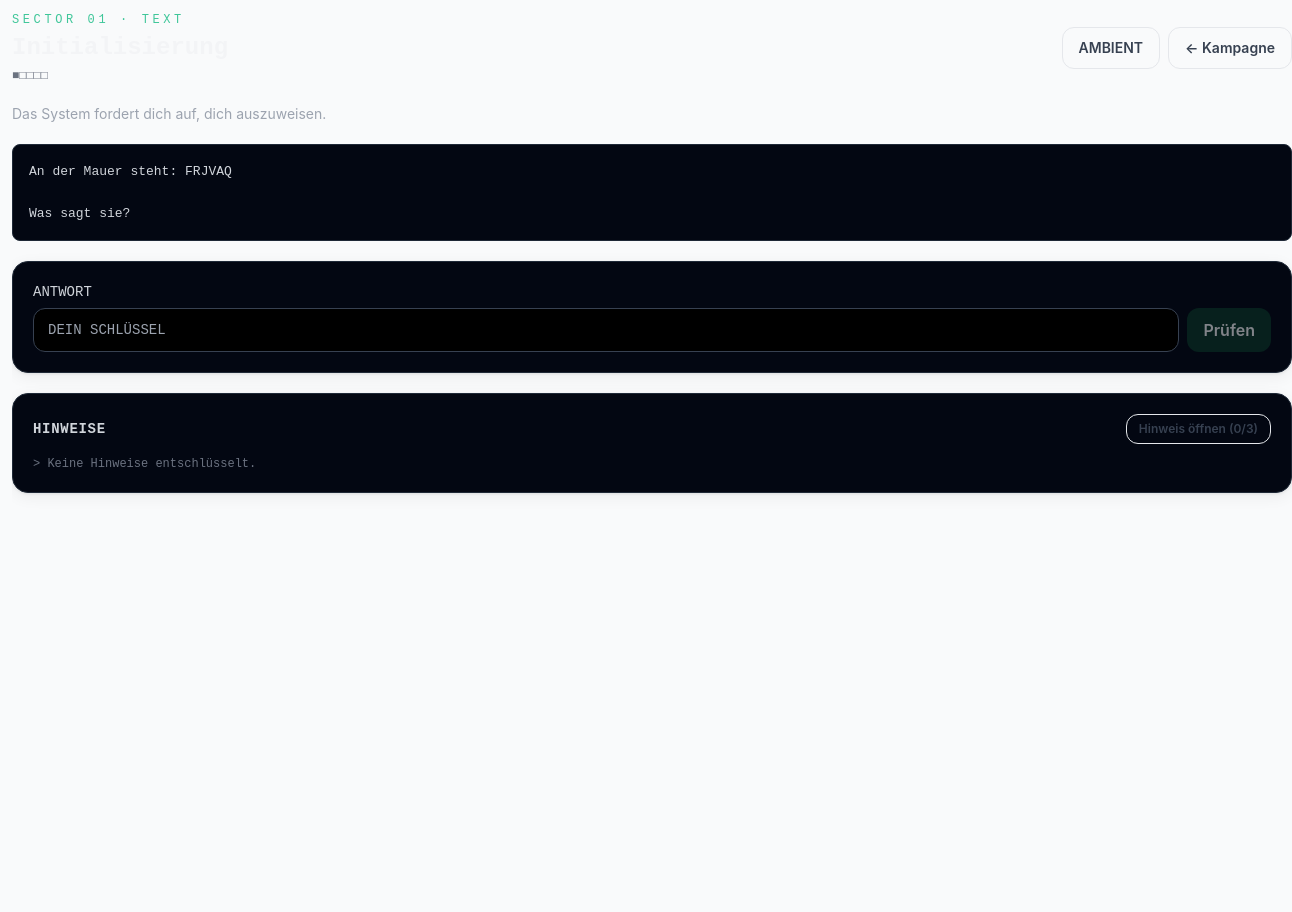
Test: LevelPage › reports a wrong answer and accepts the correct one with the story reveal
This screenshot has width=1292, height=912.
Type "session" into the field labelled "ANTWORT" at [606, 330], box [33, 308, 1179, 352]
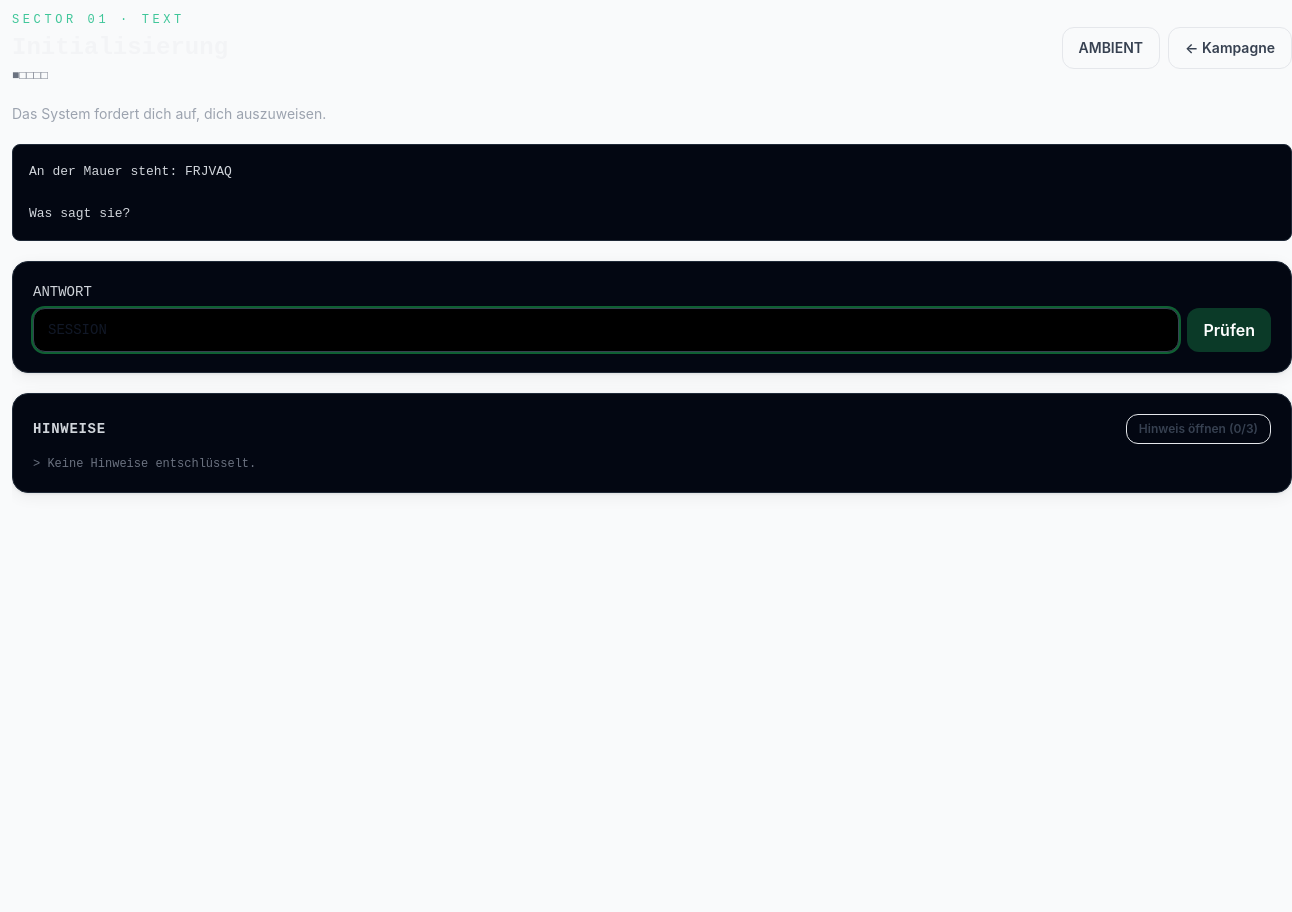
Click the button "Prüfen" at [1229, 330], box [1187, 308, 1271, 352]
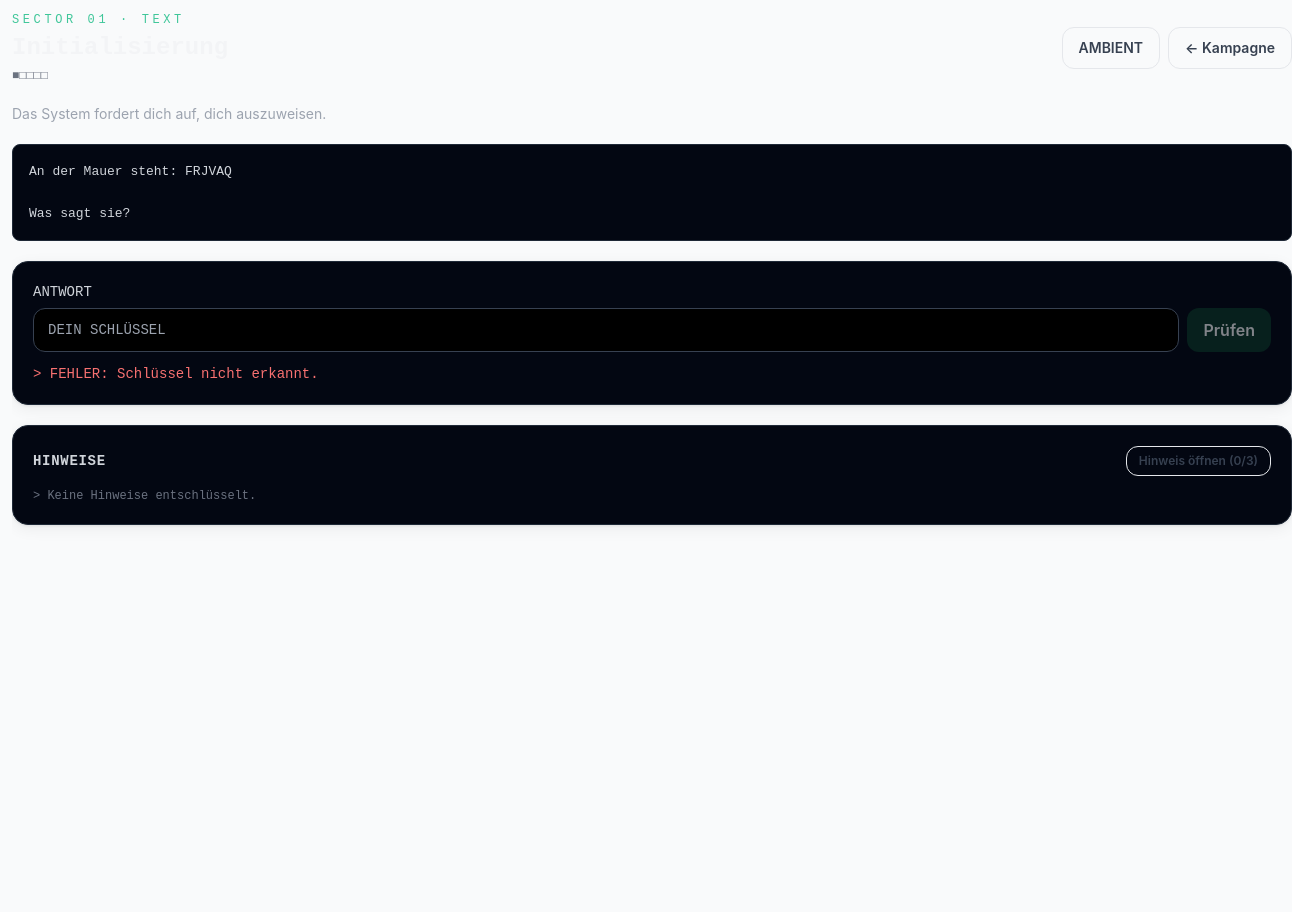
Now the text "> FEHLER: Schlüssel nicht erkannt." is shown, box [33, 366, 319, 382]
Type "session" into the field labelled "ANTWORT" at [606, 330], box [33, 308, 1179, 352]
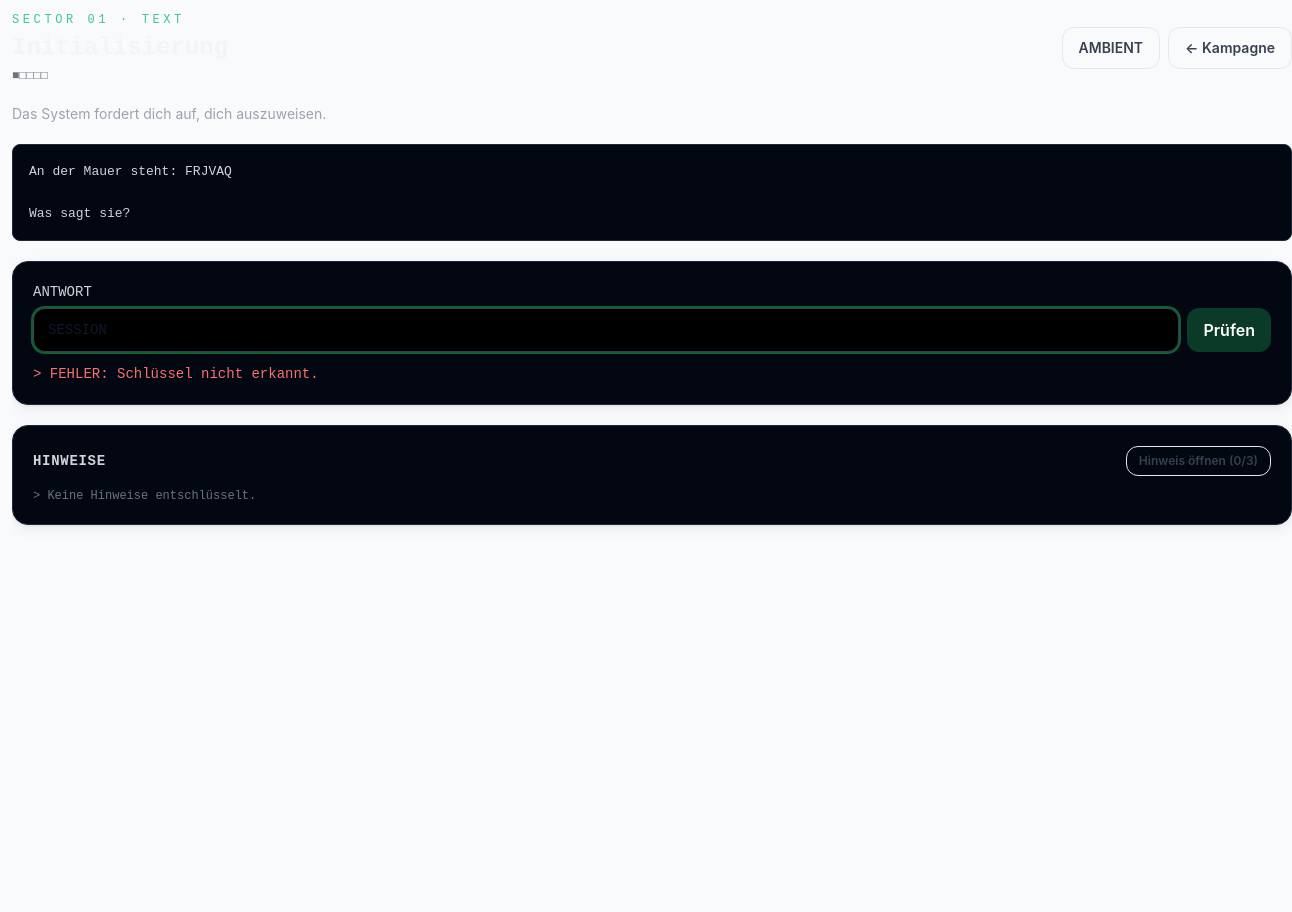
Click the button "Prüfen" at [1229, 330], box [1187, 308, 1271, 352]
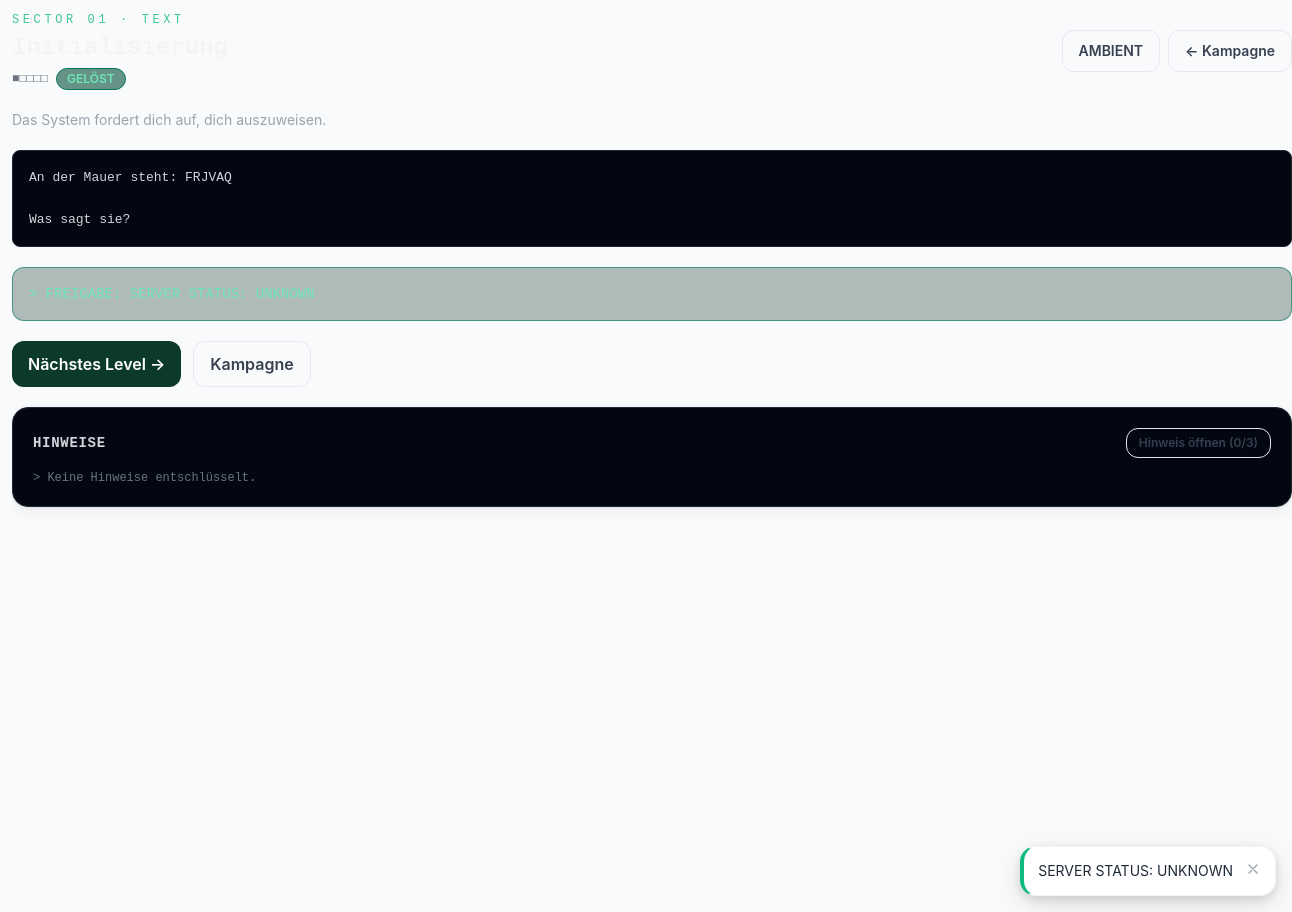
Now the text "> FREIGABE: SERVER STATUS: UNKNOWN" is shown, box [12, 267, 1291, 321]
